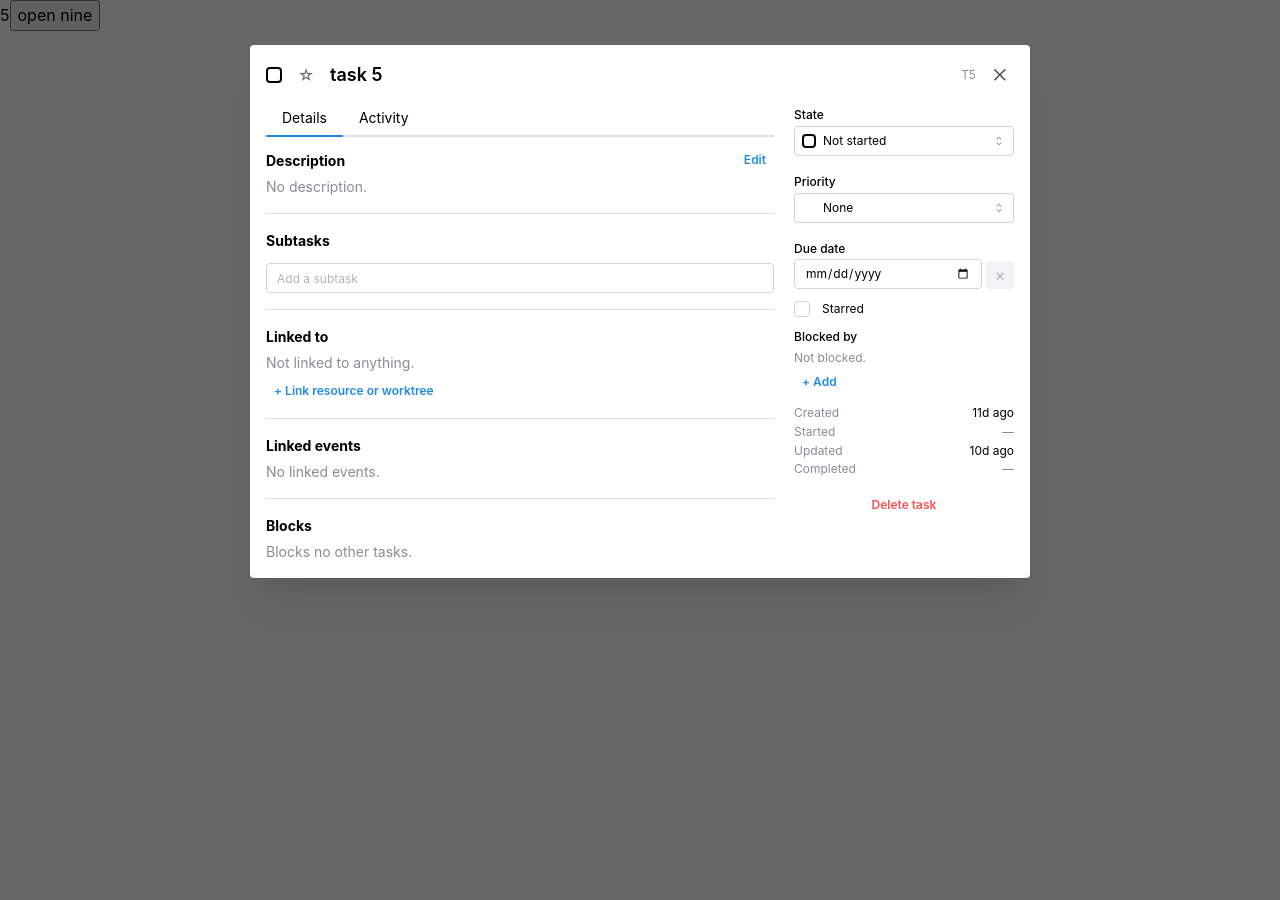
TaskDetailModal › reverts the title on Esc without closing the modal
This screenshot has width=1280, height=900.
Click the button with aria-label "Edit title". click: (356, 75)
box: [330,61,951,89]
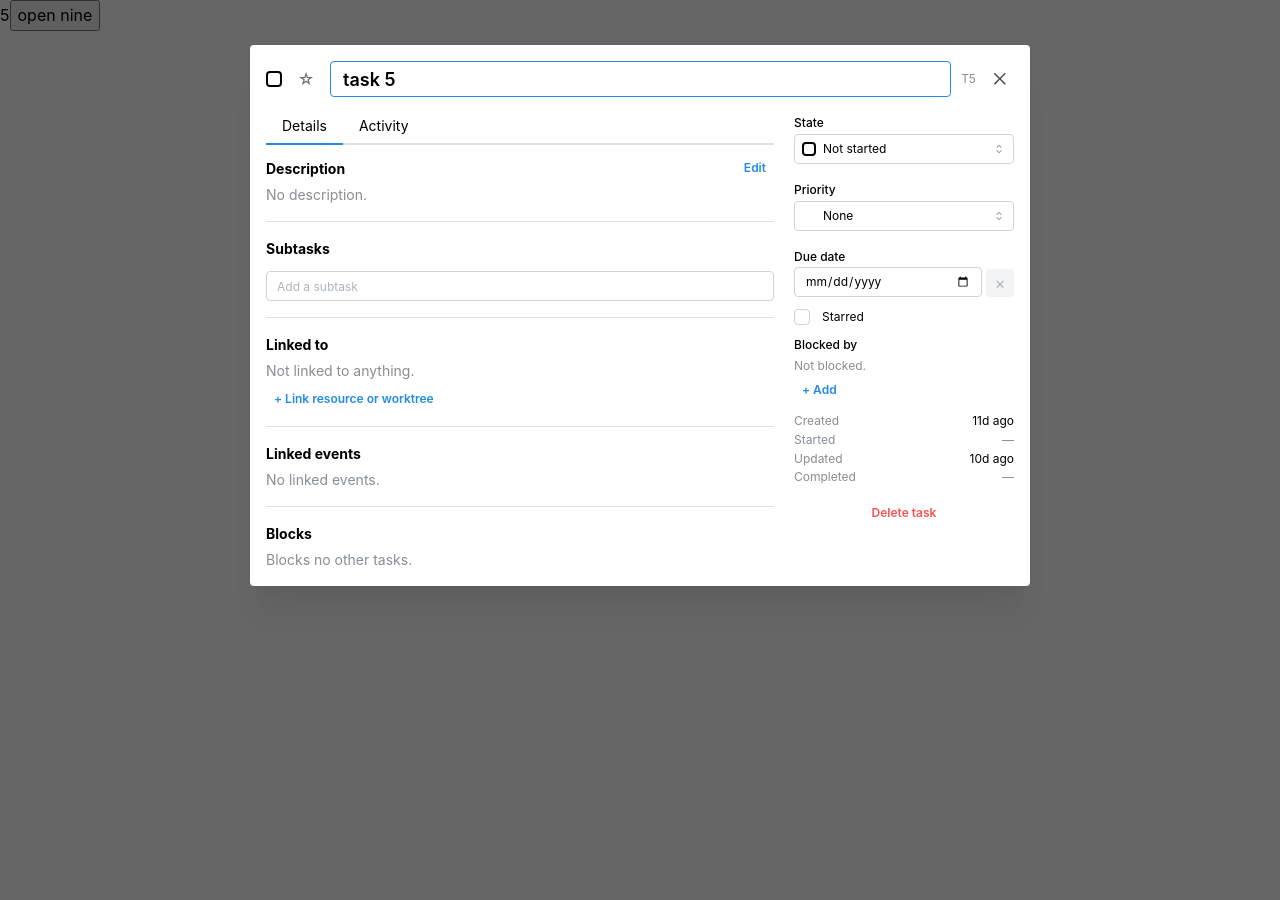
Type " changed" into the field named "Title". click: (641, 79)
box: [330,61,951,97]
Then press Escape
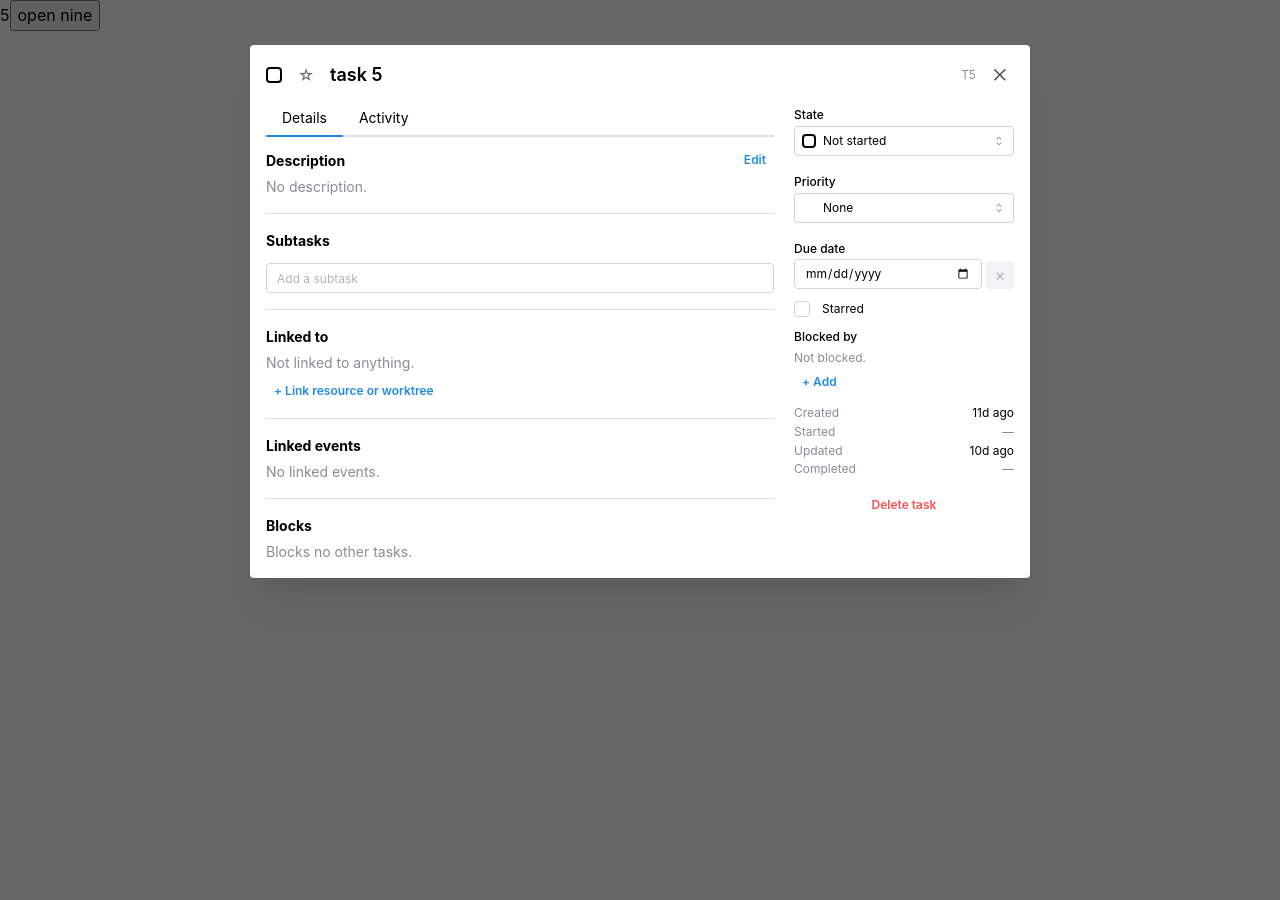
Expected: the button with aria-label "Edit title" reads "task 5", [330,61,951,89]
